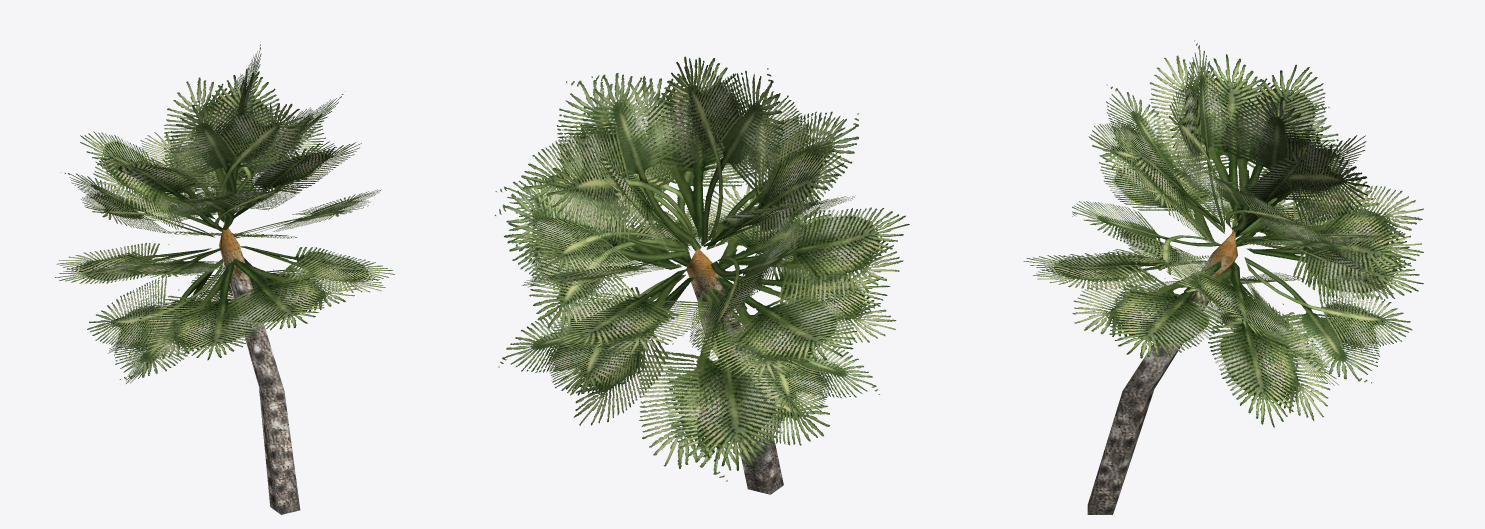
File: palm_fan_d.glb
The picture shows the model from 3 angles, left to right: view 1: azimuth 30°, elevation 25°; view 2: azimuth 150°, elevation 25°; view 3: azimuth 270°, elevation 25°; orthographic projection. The views are drawn at different scales.
Parts seen in each view (by area): view 1: palm_fan_d; view 2: palm_fan_d; view 3: palm_fan_d.
Part boxes in pixels (x1,y1,x2,y2): palm_fan_d: (55,44,394,514); palm_fan_d: (494,56,909,494); palm_fan_d: (1023,40,1423,514).
Size of the model in its own units: 11.34 by 13.09 by 12.01.
1 material, 1 textured.
